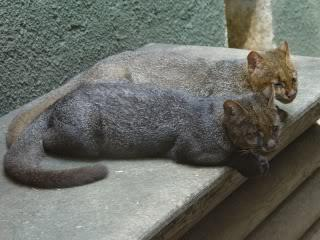Jaguarundi: (5, 83, 279, 193), (66, 43, 303, 106)
